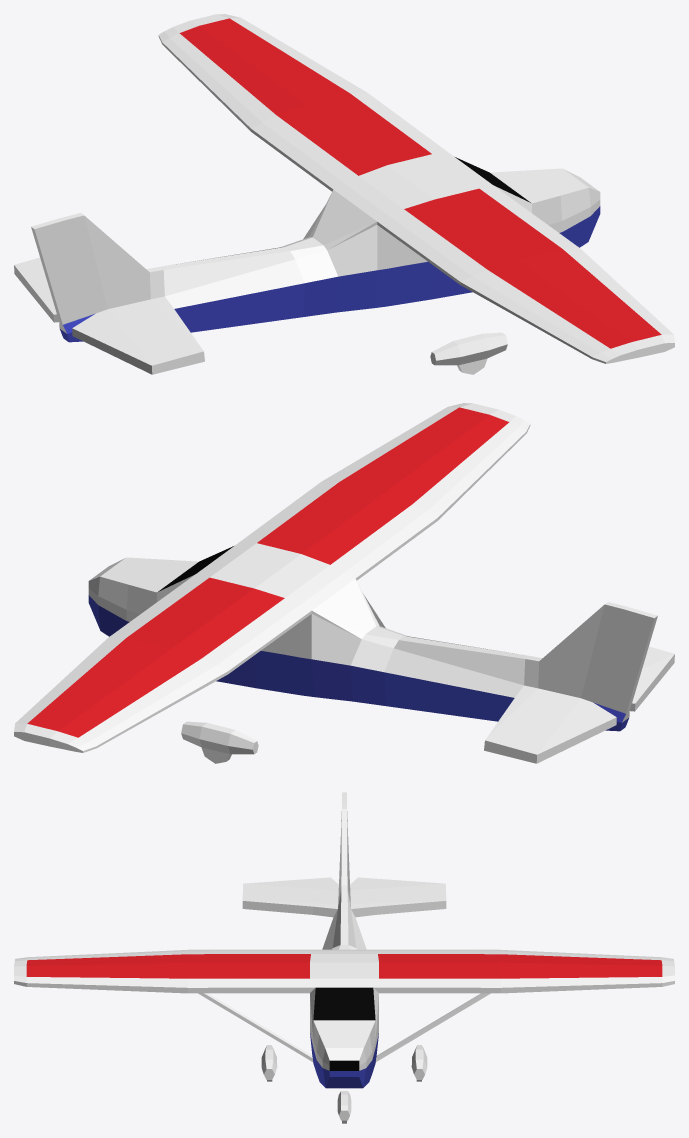
Rendered from fuselage.obj.
3 views of the same model, one above another, from view 1: azimuth 30°, elevation 25°; view 2: azimuth 150°, elevation 25°; view 3: azimuth 270°, elevation 25° (orthographic). The views are drawn at different scales.
Parts seen in each view (by area): view 1: Cube; view 2: Cube; view 3: Cube.
Boxes of the visible parts, x1=… form: Cube: x1=14, y1=14, x2=674, y2=374; Cube: x1=14, y1=403, x2=674, y2=763; Cube: x1=14, y1=792, x2=674, y2=1123.
Bounding box in the file's own units: 7.9 × 2.78 × 11.03.
